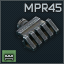NcStar MPR45 Backup mount: (0, 0, 64, 64)
